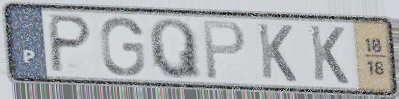G: (98, 15, 147, 78)
K: (307, 23, 351, 86), (255, 21, 299, 84)
P: (200, 19, 248, 82), (48, 13, 95, 75)
Q: (147, 17, 204, 82)
